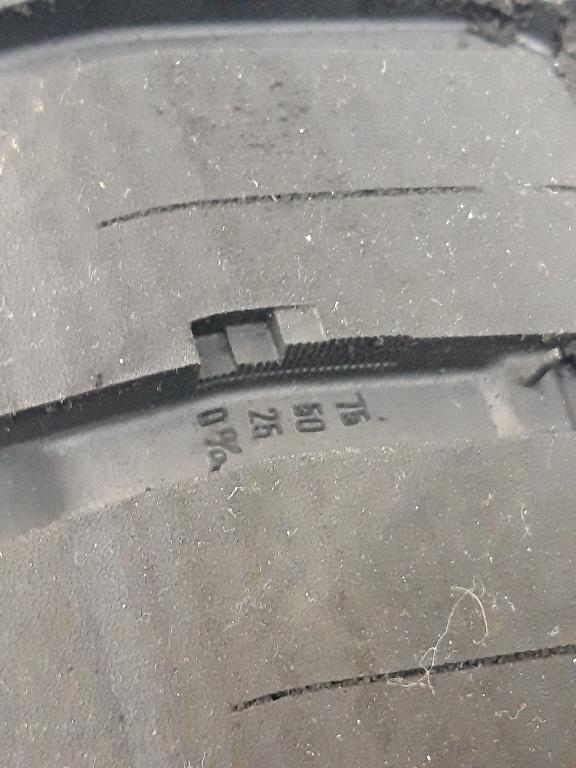temoin:50: (180, 295, 347, 405)
